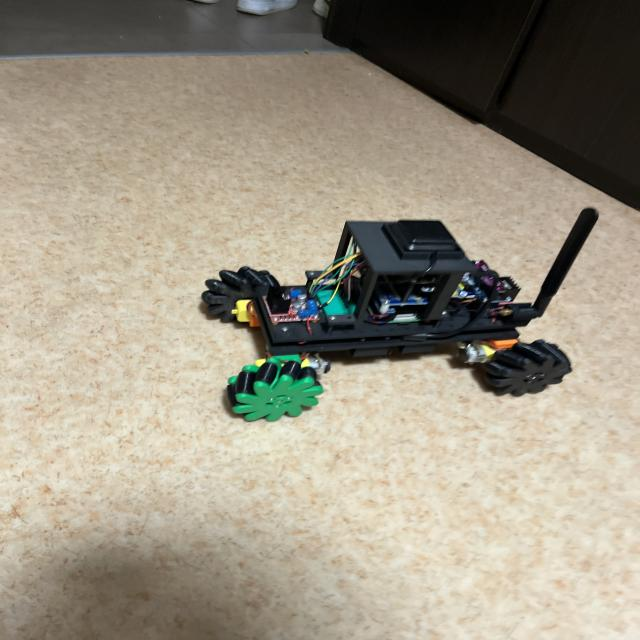robot: (202, 210, 598, 421)
